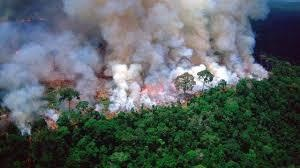fire: (137, 78, 190, 105)
